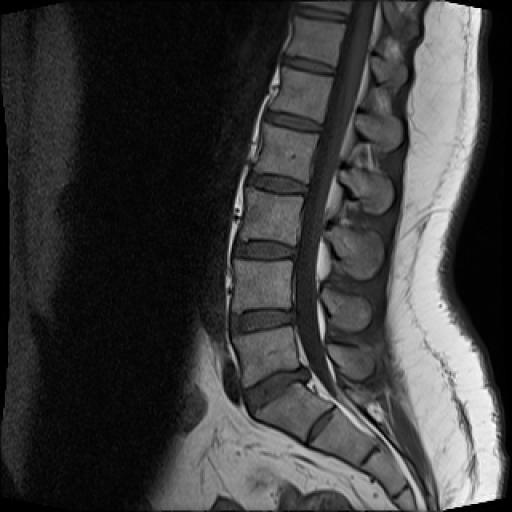L1: (270, 67, 333, 124)
L2: (255, 124, 318, 182)
L3: (239, 187, 303, 246)
L4: (232, 260, 293, 312)
L5: (233, 327, 299, 388)
S1: (255, 383, 332, 442)
